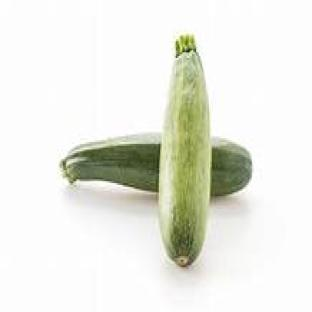Zucchini: (159, 36, 211, 267), (61, 133, 160, 192)
